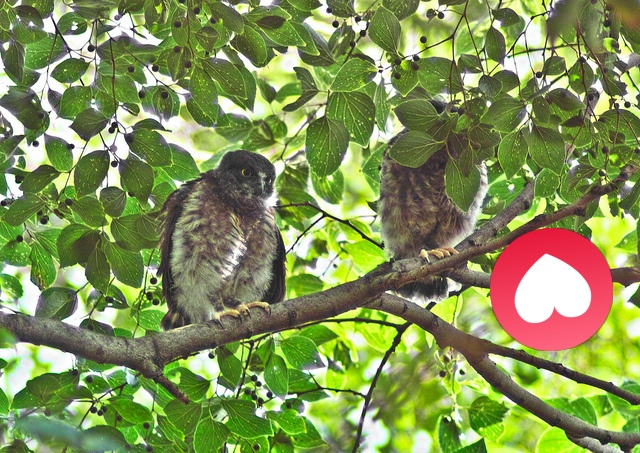love: (490, 228, 613, 351)
